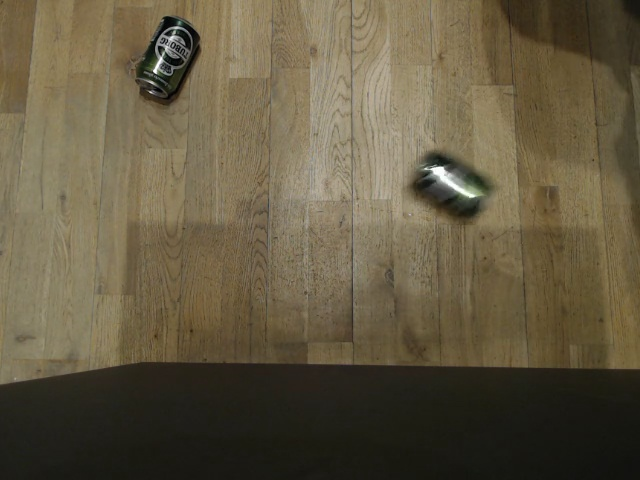beer: (132, 13, 202, 100), (409, 152, 495, 222)
